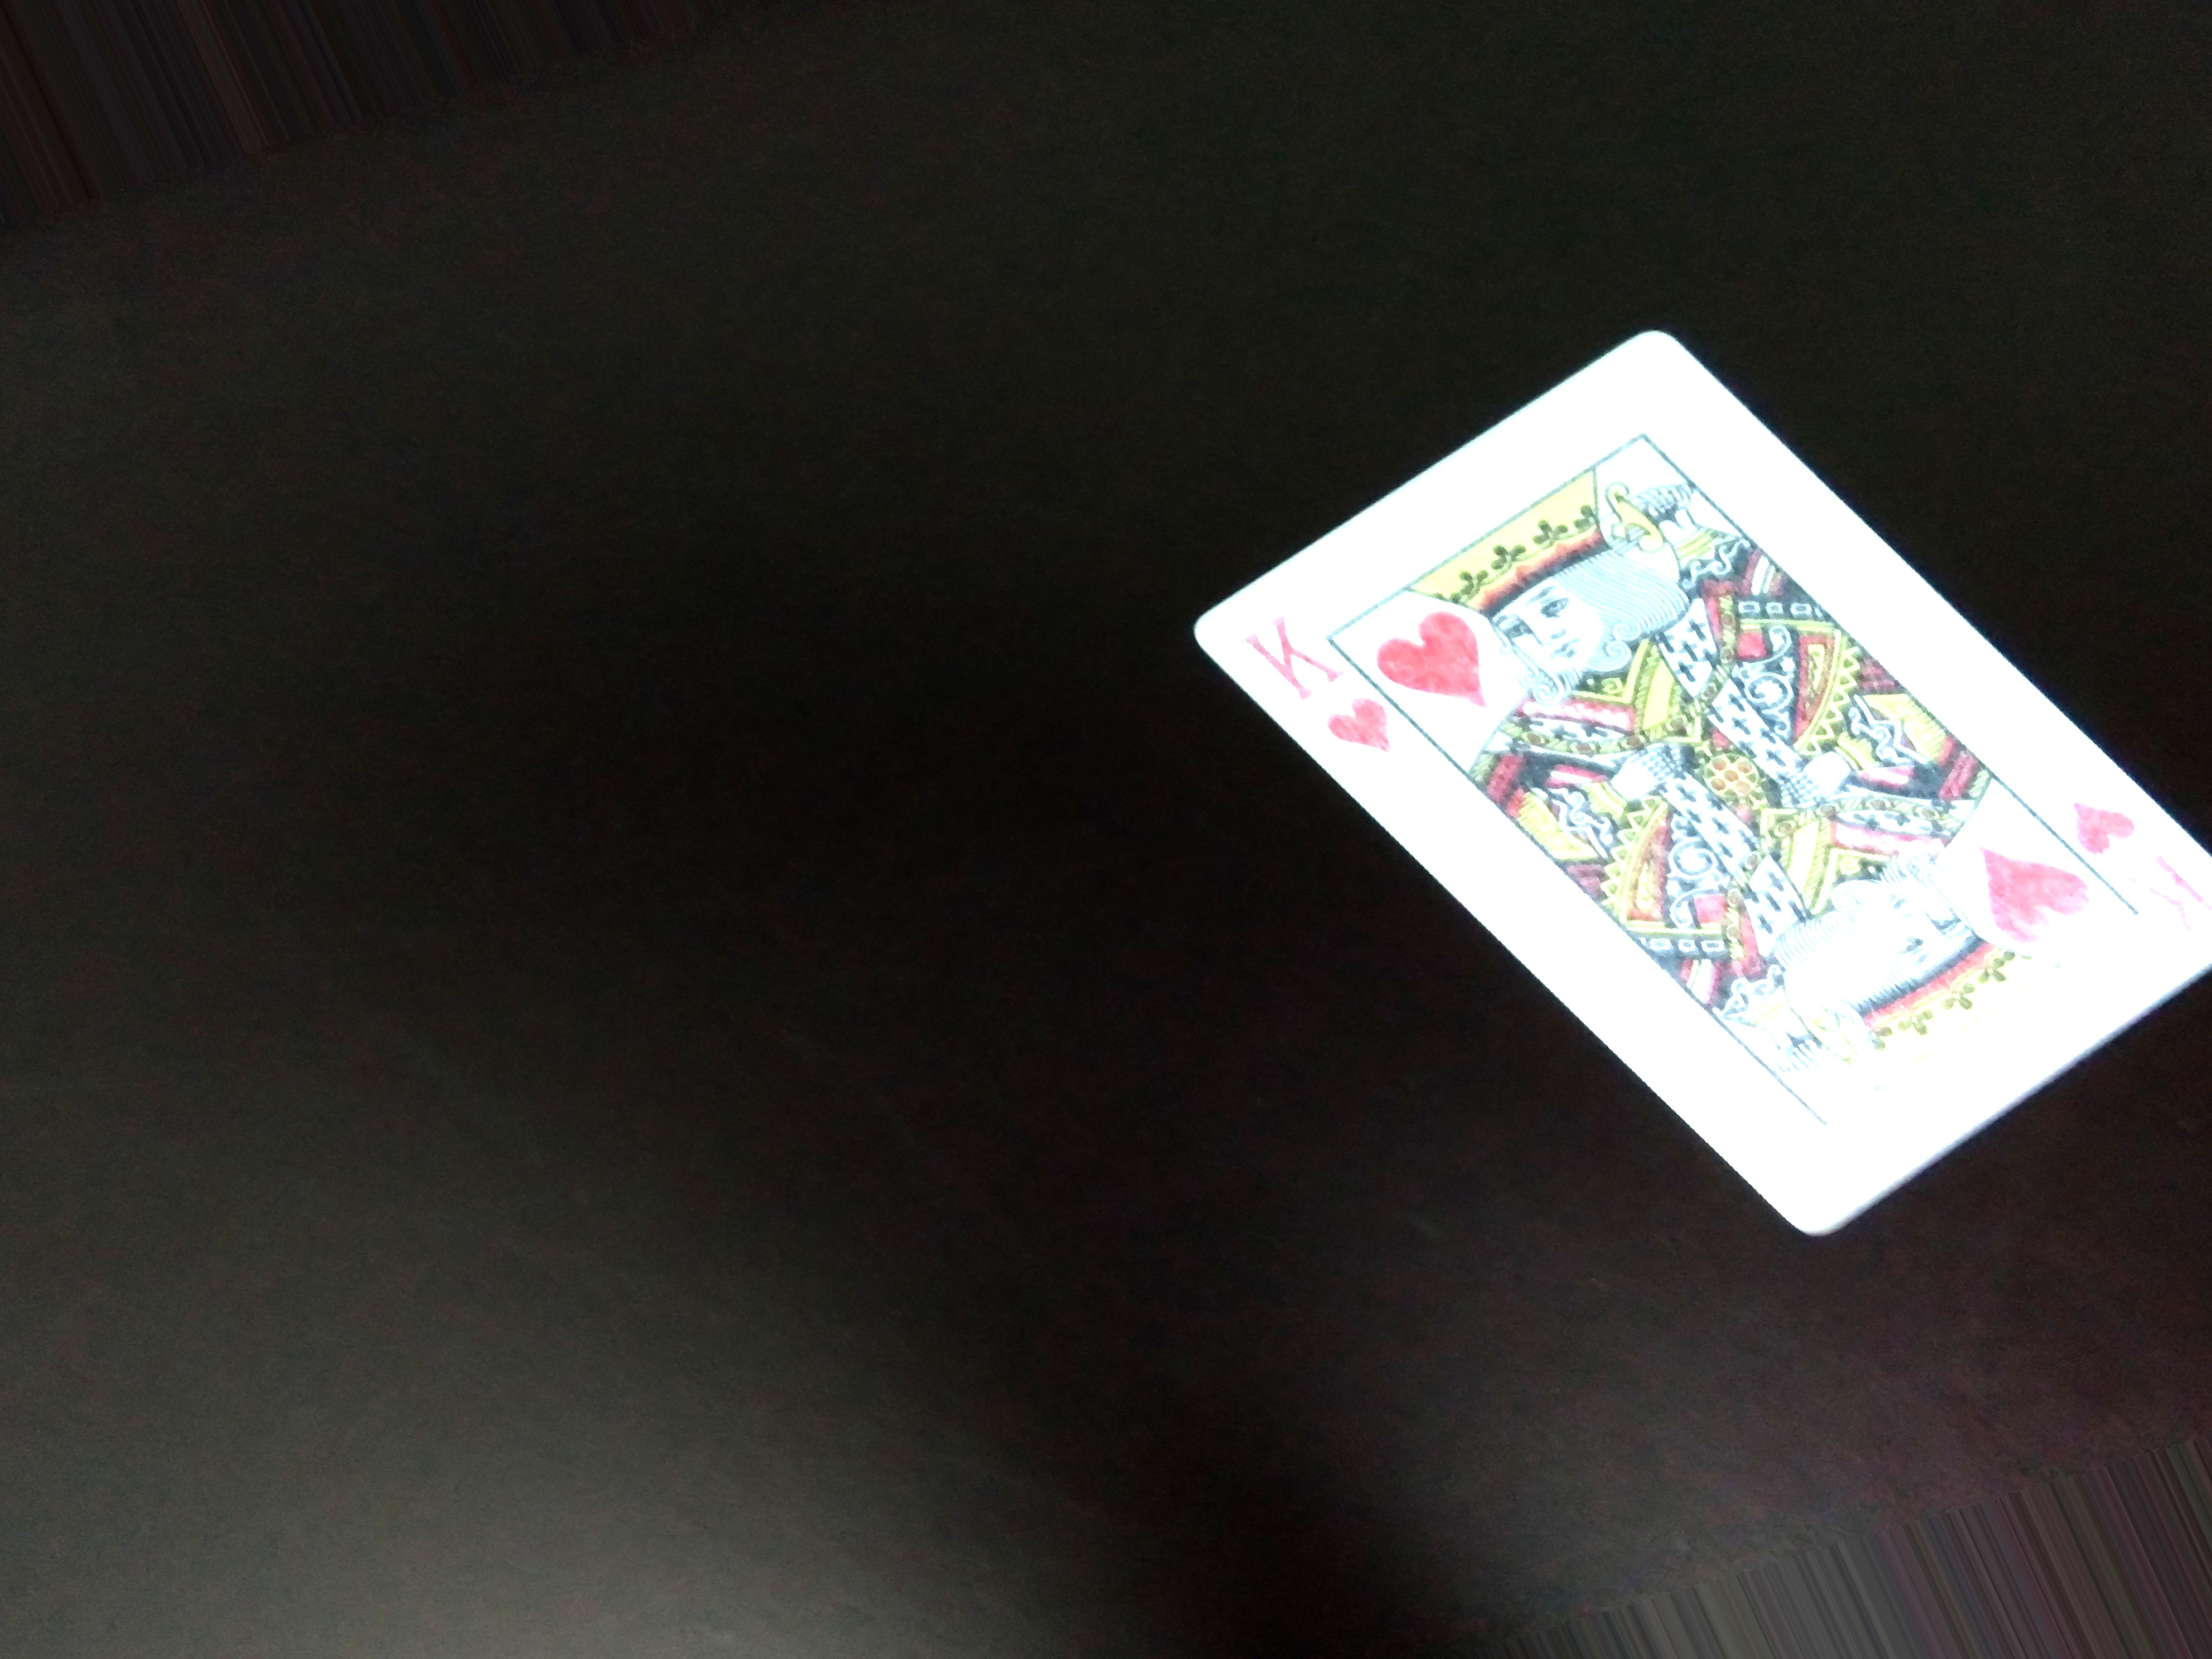KH: (1235, 598, 1399, 763)
